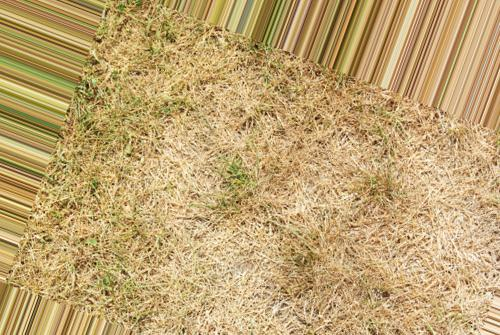patch: (155, 211, 249, 293), (210, 90, 277, 153), (150, 131, 208, 203), (44, 232, 112, 287), (439, 229, 493, 292), (299, 129, 368, 177), (365, 220, 429, 271), (146, 55, 194, 113), (179, 301, 259, 333), (410, 171, 463, 214), (262, 233, 292, 294), (268, 184, 330, 213), (284, 85, 324, 121), (218, 159, 247, 192)
